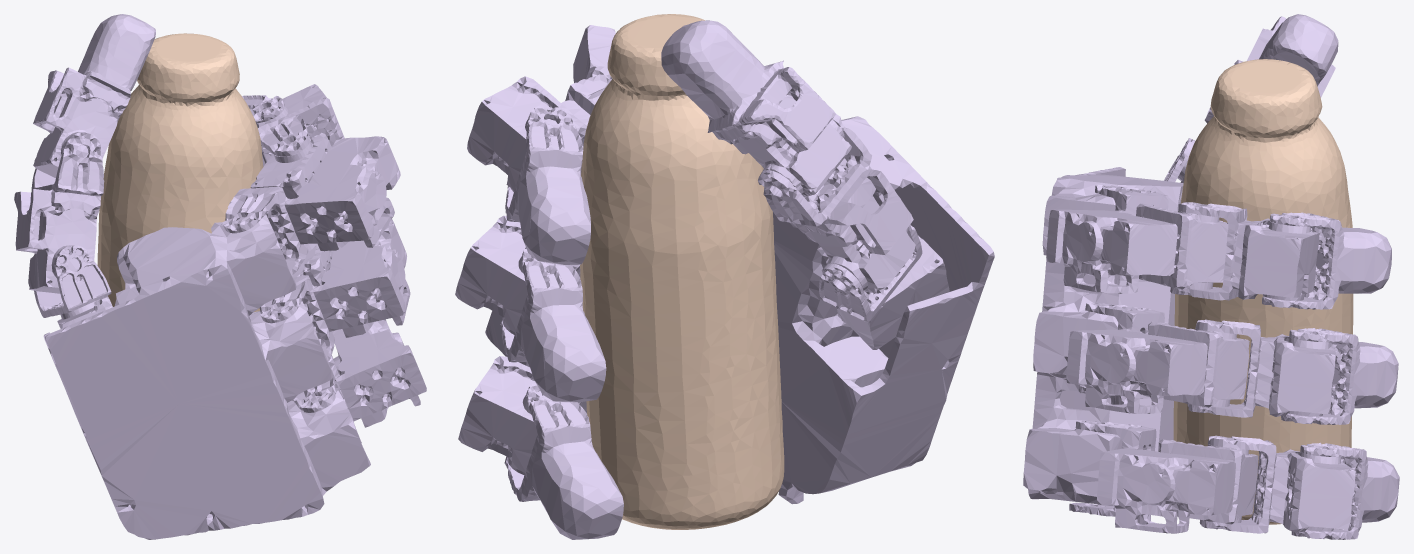
Rendered from 4a7d97add1a2fc-final.glb.
3 renders of one model, left to right at view 1: azimuth 30°, elevation 25°; view 2: azimuth 150°, elevation 25°; view 3: azimuth 270°, elevation 25°, orthographic. The views are drawn at different scales.
Parts seen in each view (by area): view 1: LEAP_hand, world; view 2: LEAP_hand, world; view 3: LEAP_hand, world.
Part boxes in pixels (x1,y1,x2,y2): LEAP_hand: (14, 14, 426, 539); world: (97, 33, 263, 311); LEAP_hand: (455, 20, 994, 539); world: (580, 14, 784, 529); LEAP_hand: (1023, 14, 1399, 539); world: (1173, 59, 1353, 524).
Bounding box in the file's own units: 0.1849 × 0.2016 × 0.1442.
